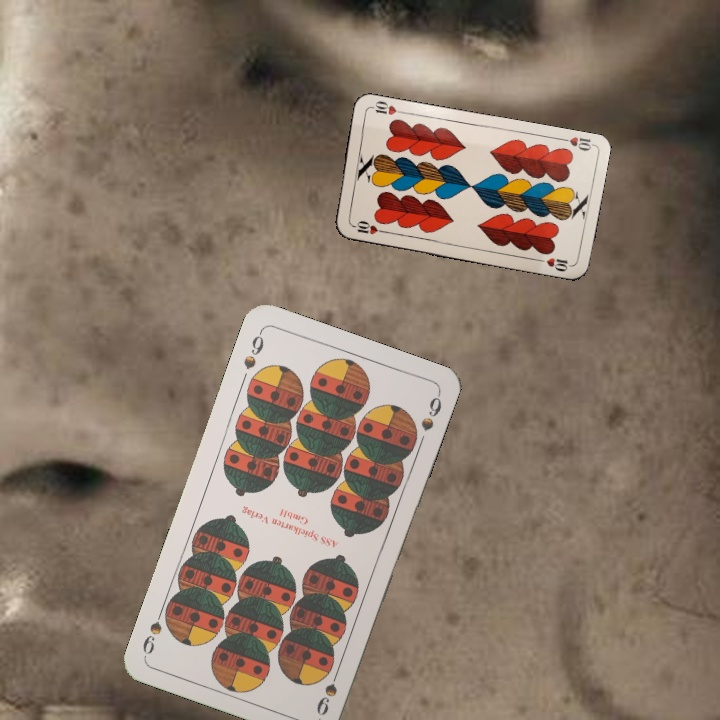H10: (555, 133, 595, 154), (348, 217, 388, 237)
S9: (312, 662, 343, 719), (239, 326, 267, 372)
